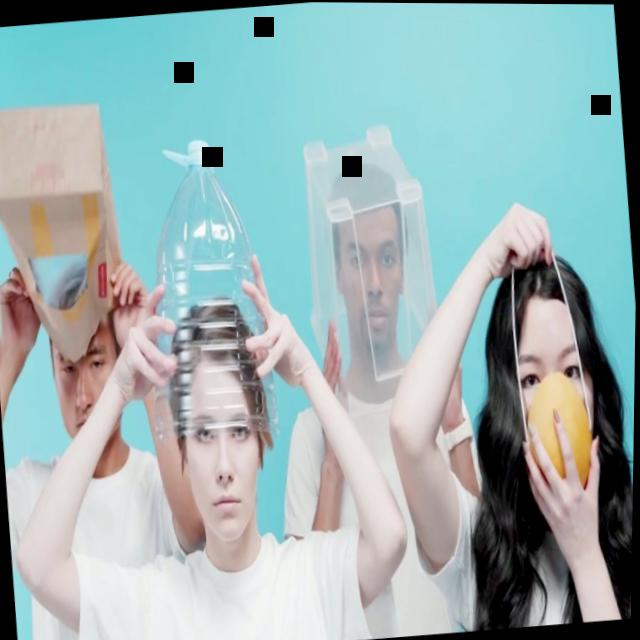Mask: (507, 307, 610, 494)
NO-Mask: (177, 374, 267, 545), (334, 215, 414, 356), (50, 329, 122, 449)
